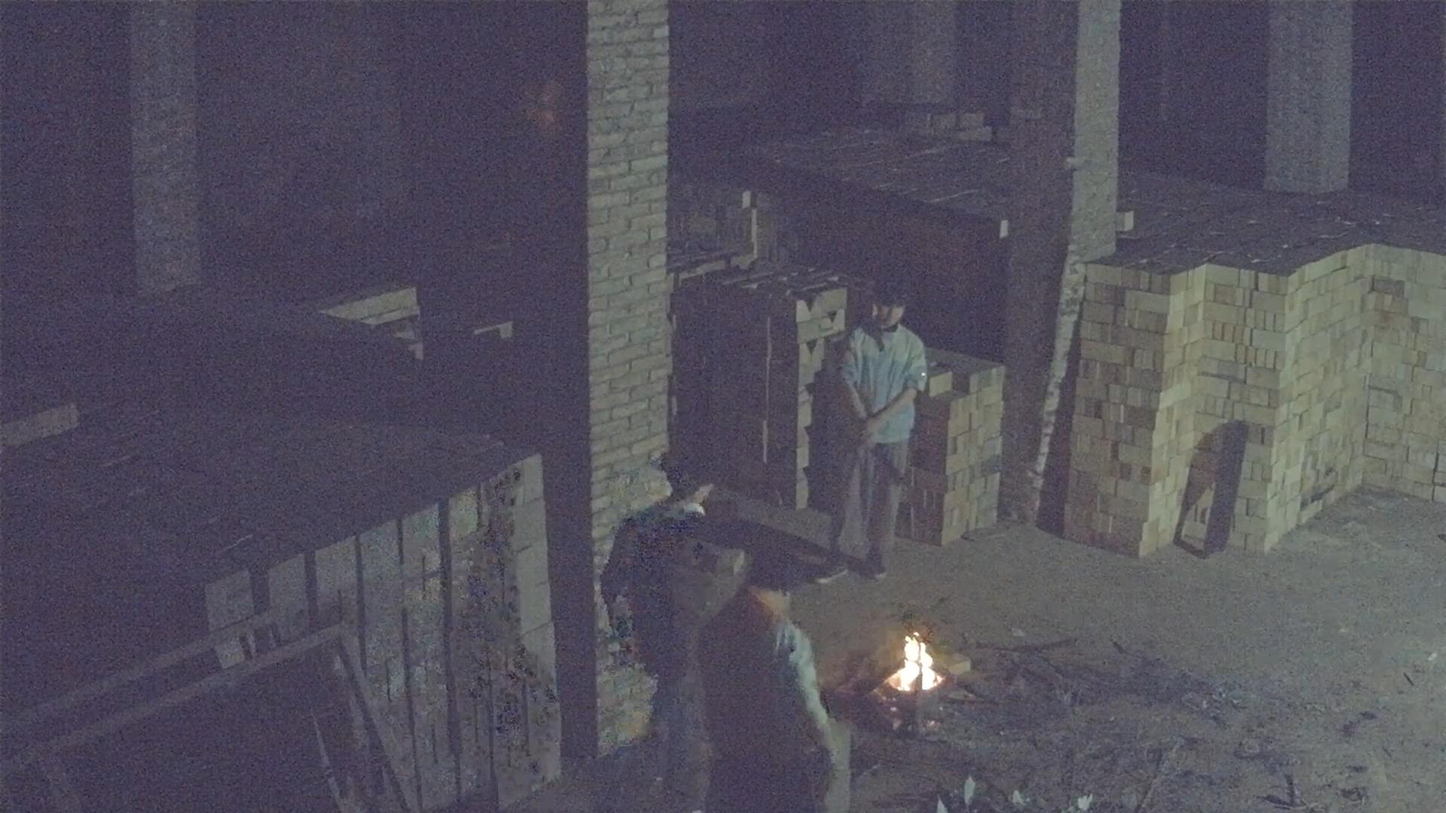fire: (887, 636, 942, 693)
